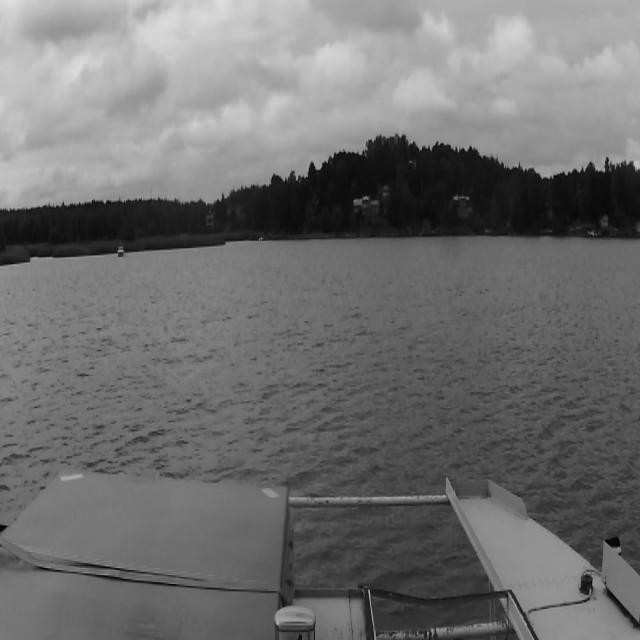ship: (118, 245, 124, 258)
